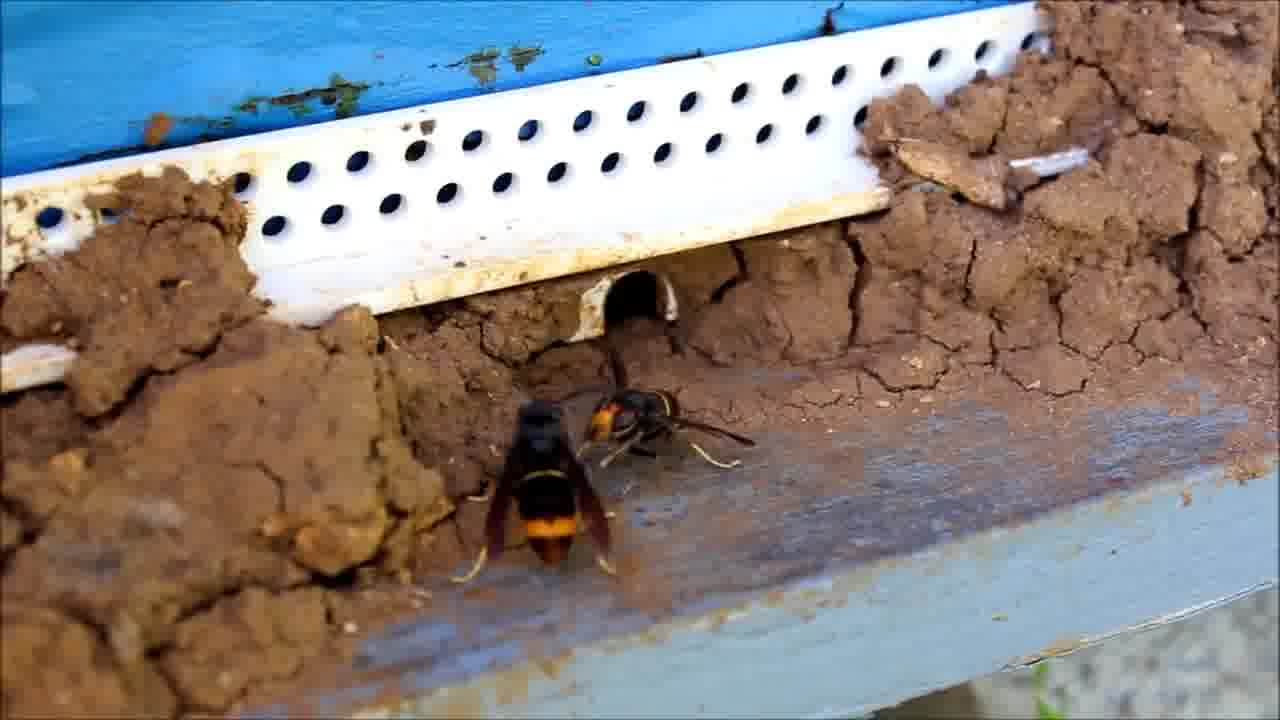hornet: (480, 397, 612, 569), (578, 378, 726, 463)
